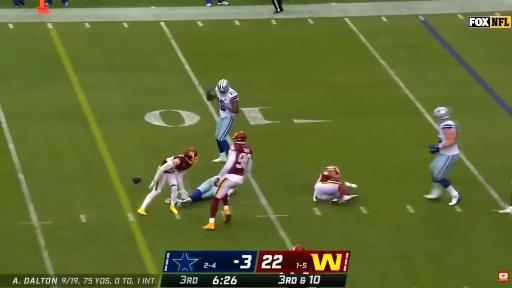Helmet: (184, 148, 198, 163), (433, 107, 449, 120), (217, 79, 230, 94), (233, 132, 246, 143), (326, 166, 340, 175), (292, 245, 305, 250)
Jersey: (219, 144, 252, 183), (216, 88, 238, 117), (161, 155, 192, 173), (438, 120, 456, 146), (318, 167, 342, 183)
Player: (203, 132, 252, 230), (138, 148, 197, 215), (424, 107, 460, 205), (206, 80, 239, 162), (314, 166, 357, 204), (178, 177, 216, 206), (499, 197, 511, 213), (292, 245, 305, 250)
